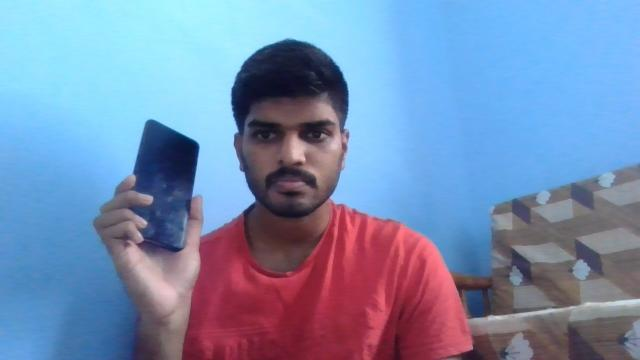PhoneUse: (132, 116, 200, 261)
SafeDriving: (296, 121, 336, 144), (247, 122, 286, 144)
